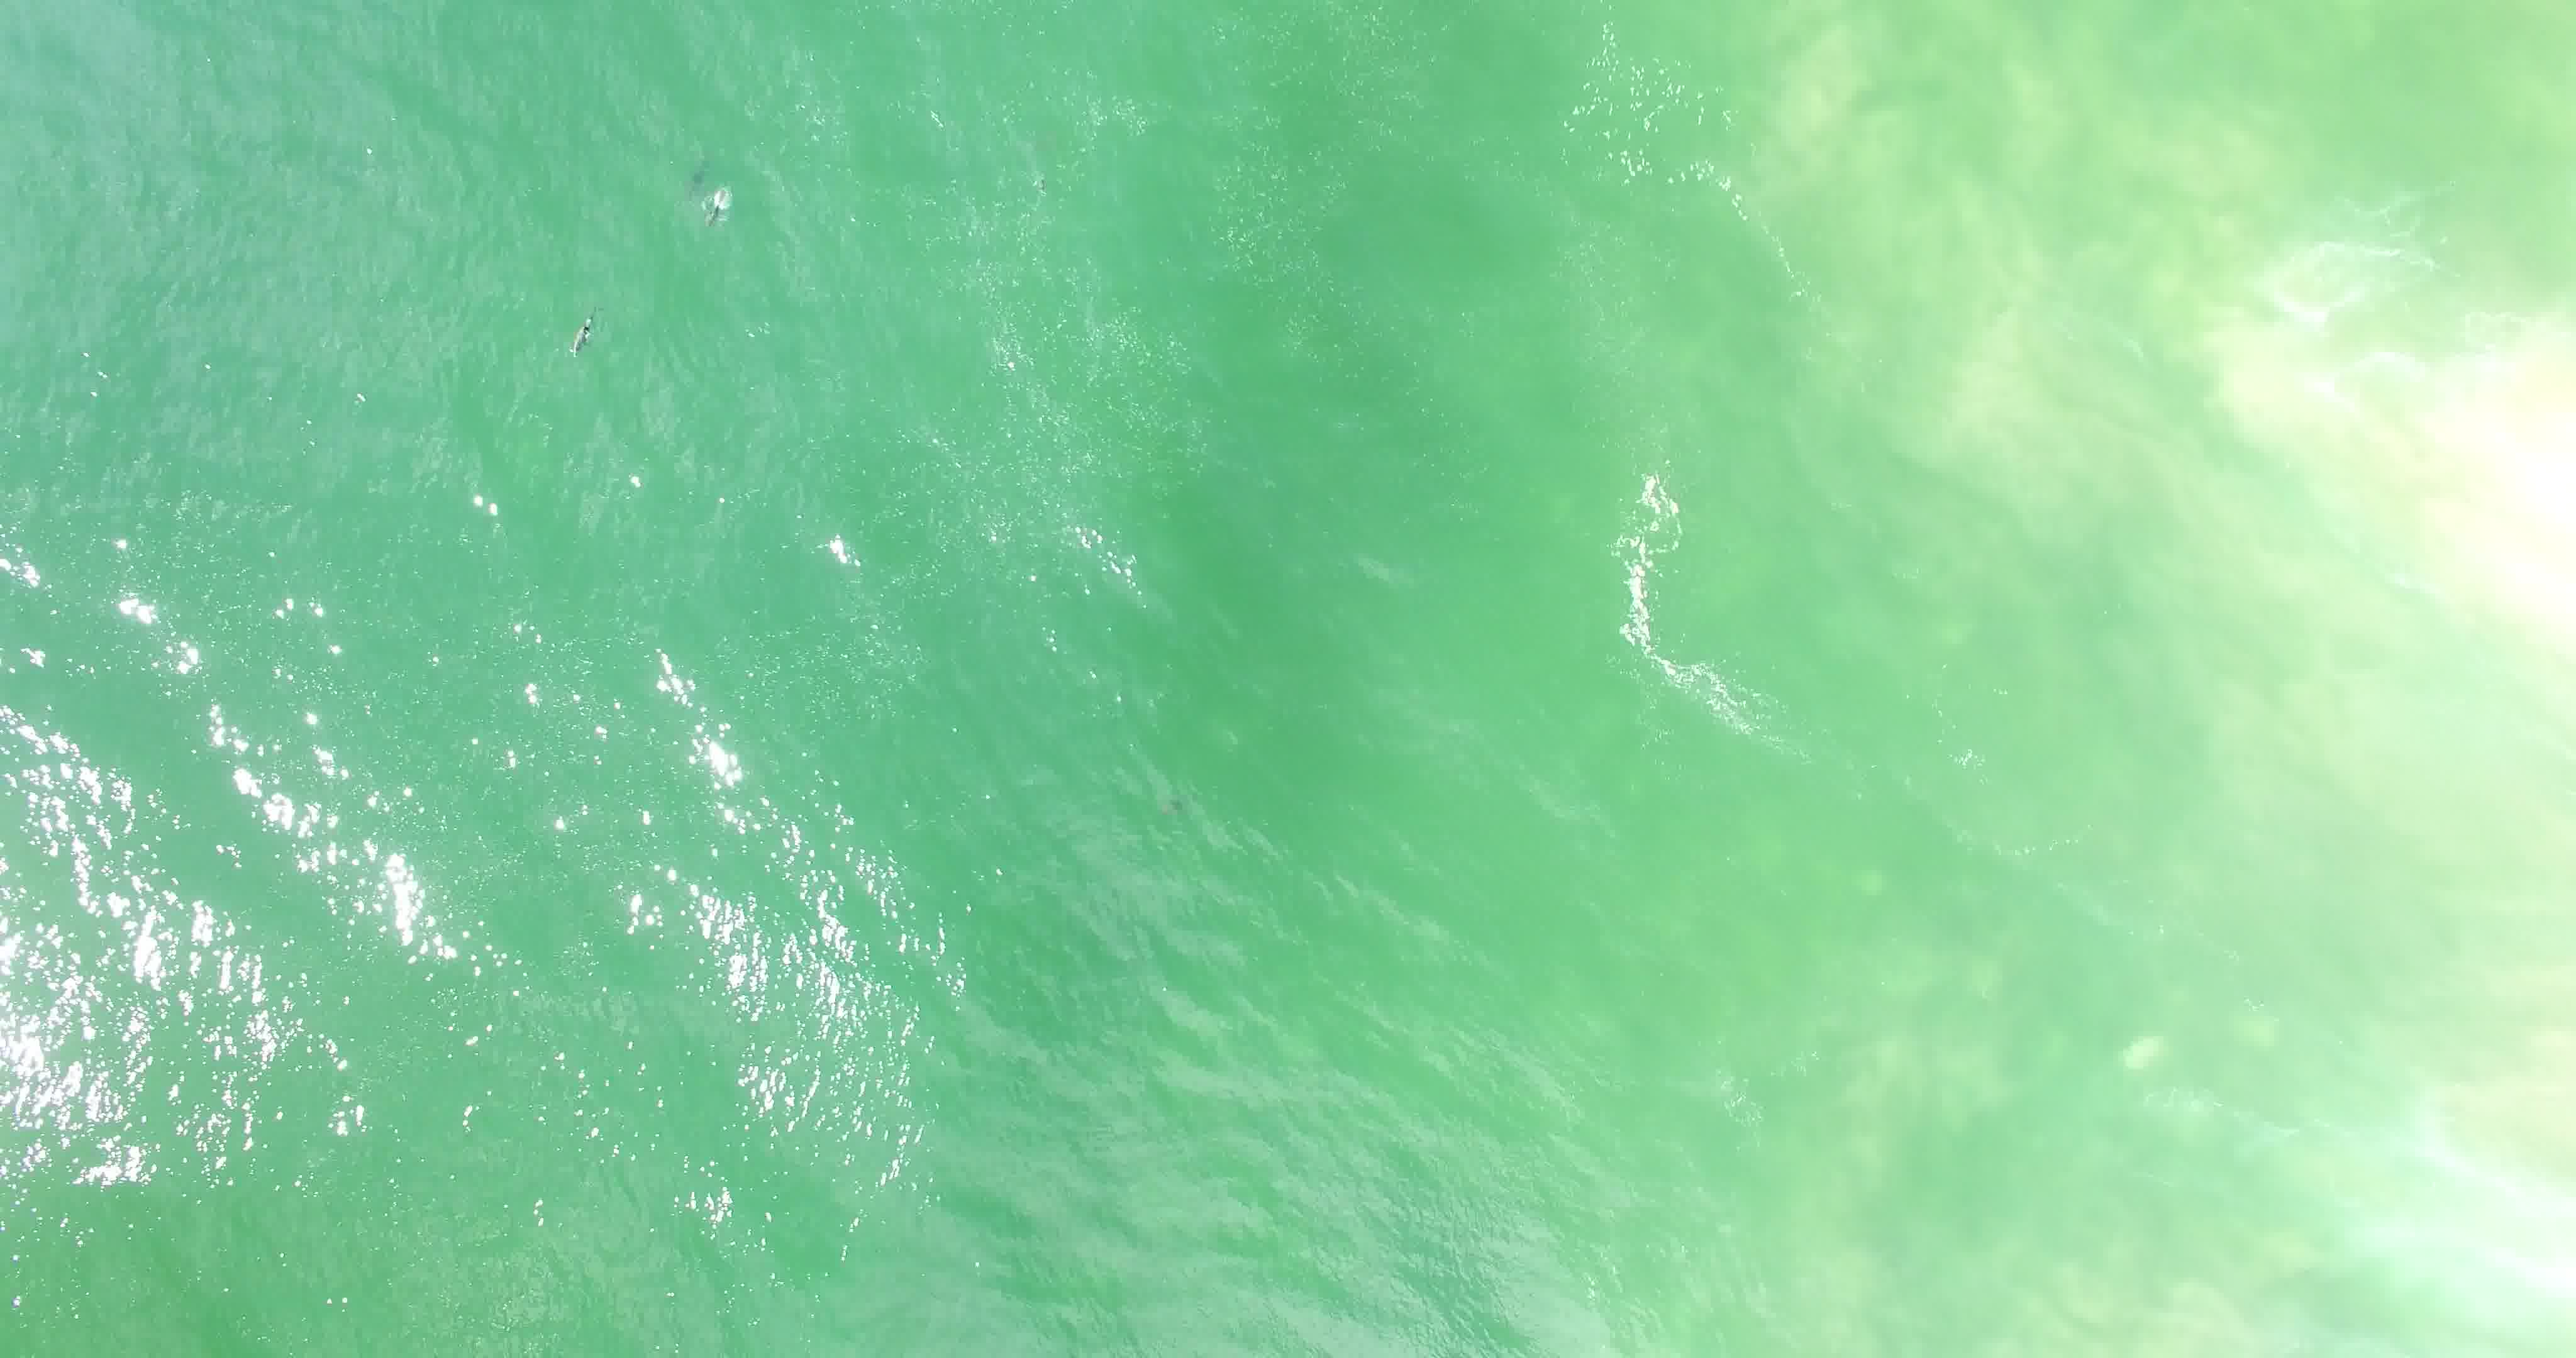dolphin: (543, 286, 612, 363), (690, 165, 736, 230), (673, 136, 714, 196)
